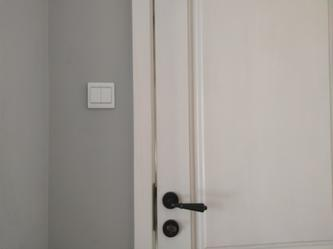switch: (99, 86, 112, 103), (90, 85, 99, 103)
